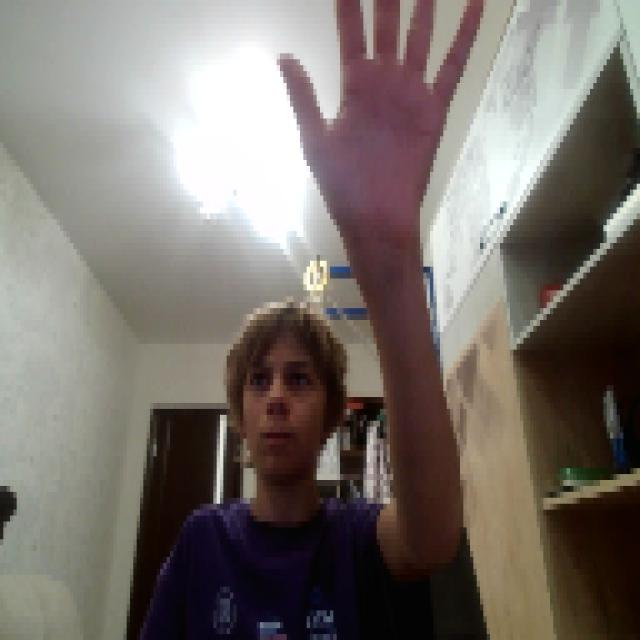hand: (274, 0, 484, 243)
